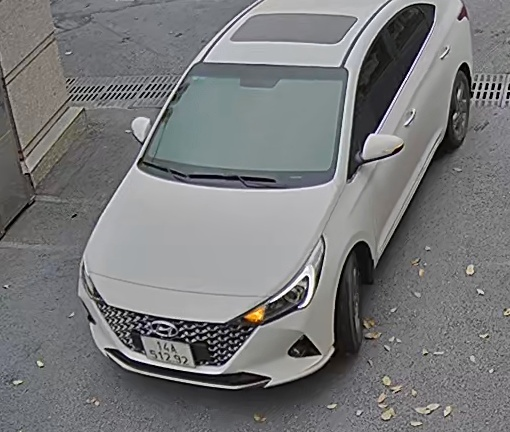vehicle plate: (137, 328, 201, 376)
